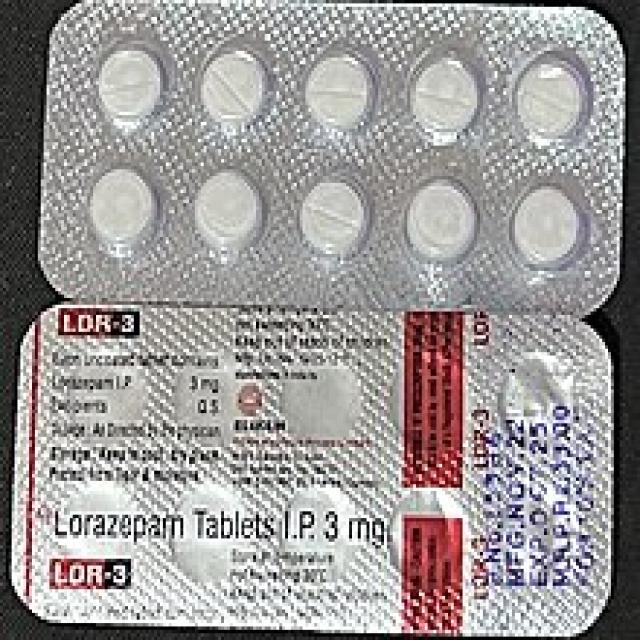Medicine-name: (46, 502, 395, 550)
